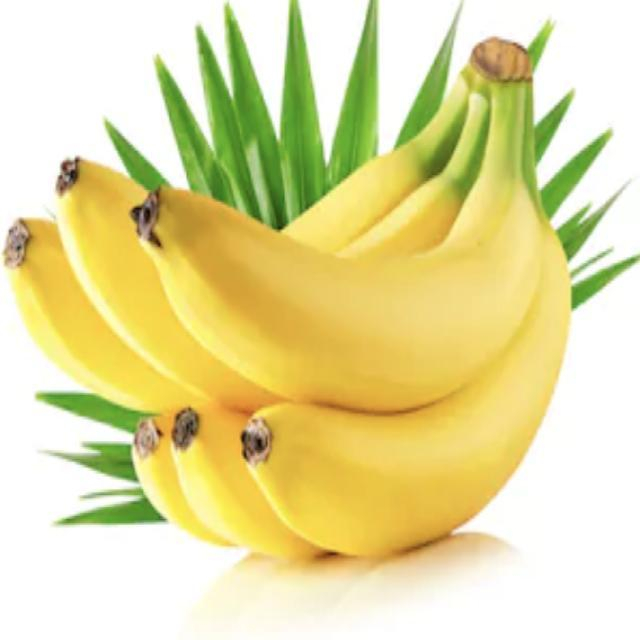Banana: (3, 42, 579, 566)
